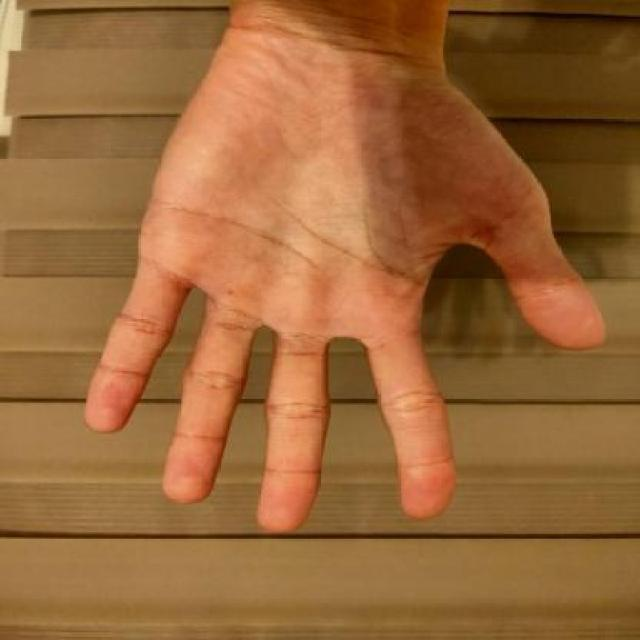bare_hand: (50, 0, 621, 553)
